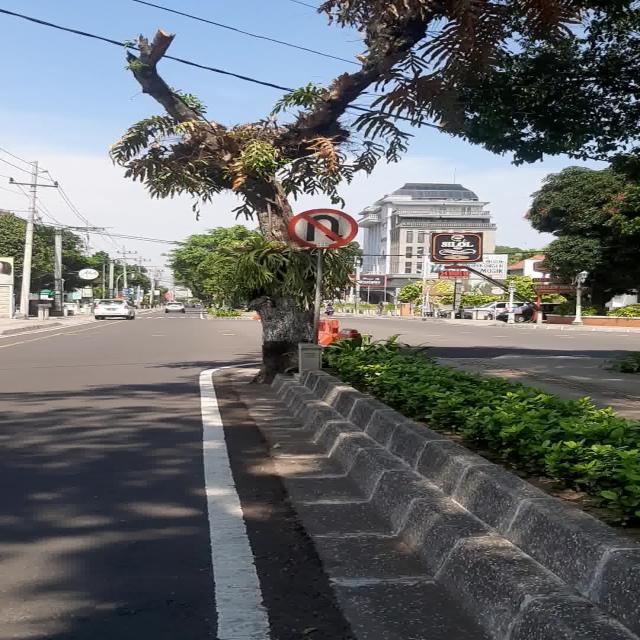Dilarang Putar Balik: (286, 208, 359, 248)
